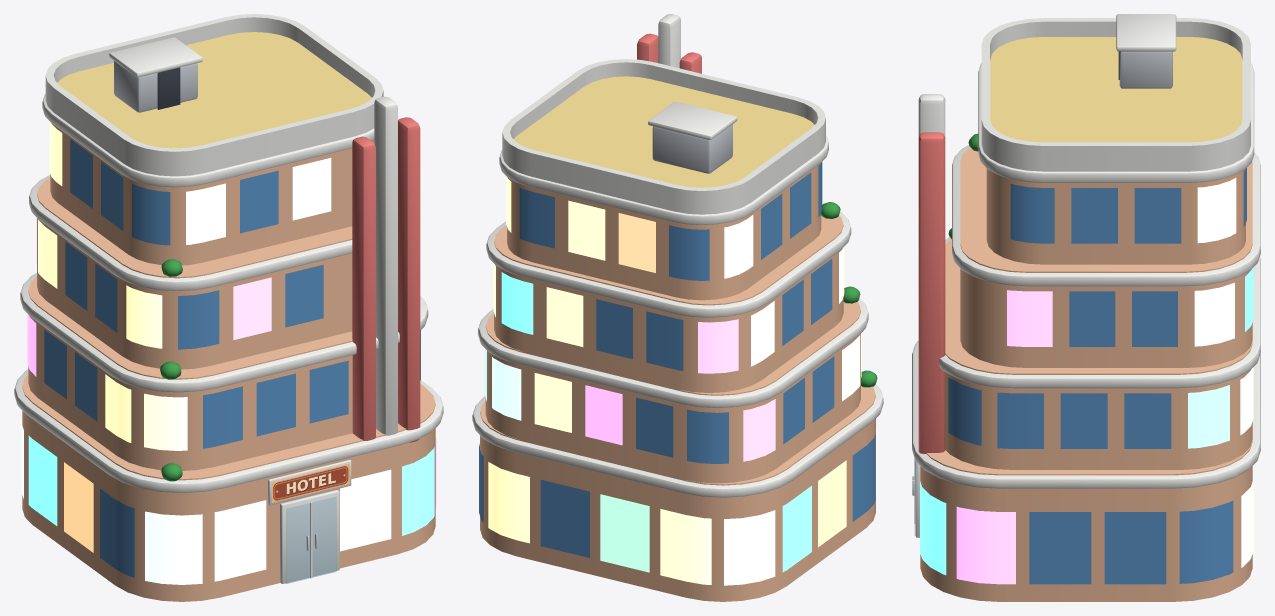
The model's file is deco_degraus_pessego.glb.
3 views of the same model, side by side, from view 1: azimuth 30°, elevation 25°; view 2: azimuth 150°, elevation 25°; view 3: azimuth 270°, elevation 25° (orthographic). The views are drawn at different scales.
Parts seen in each view (by area): view 1: deco_degraus_pessego; view 2: deco_degraus_pessego; view 3: deco_degraus_pessego.
Part boxes in pixels (<box>): deco_degraus_pessego: <box>14,14,443,601</box>; deco_degraus_pessego: <box>472,14,883,601</box>; deco_degraus_pessego: <box>912,14,1260,601</box>.
Size of the model in its own units: 11.7 by 15.63 by 10.5.
10 materials, 2 textured.
